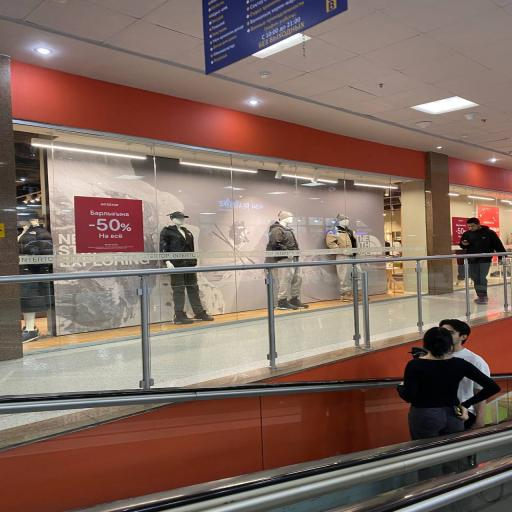elevator: (15, 125, 426, 383), (450, 186, 511, 254)
